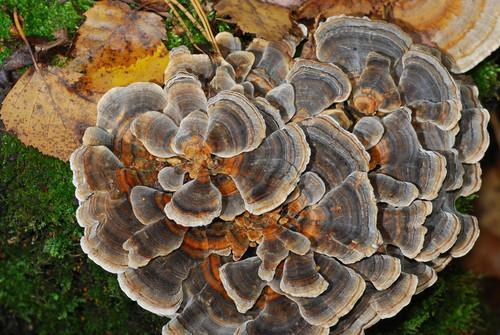Non-edible Mushroom: (67, 13, 490, 333)
